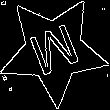M_S: (24, 19, 84, 82)
